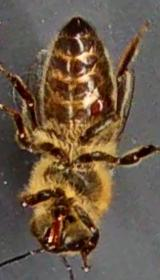varroa_mite: (78, 92, 114, 118)
